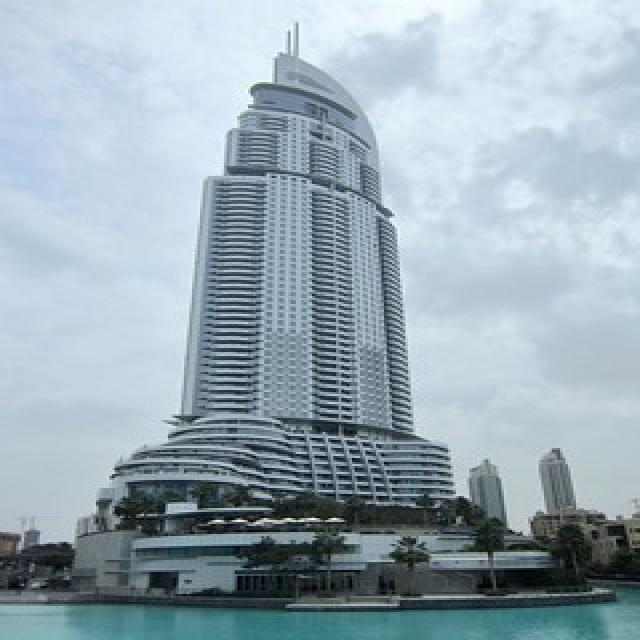building: (101, 16, 502, 598)
